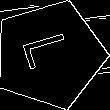L_E: (19, 33, 80, 77)
